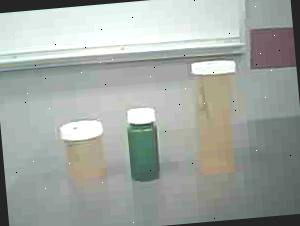Bottle A: (189, 54, 248, 180)
Bottle B: (58, 114, 110, 184)
Bottle C: (120, 102, 168, 190)
